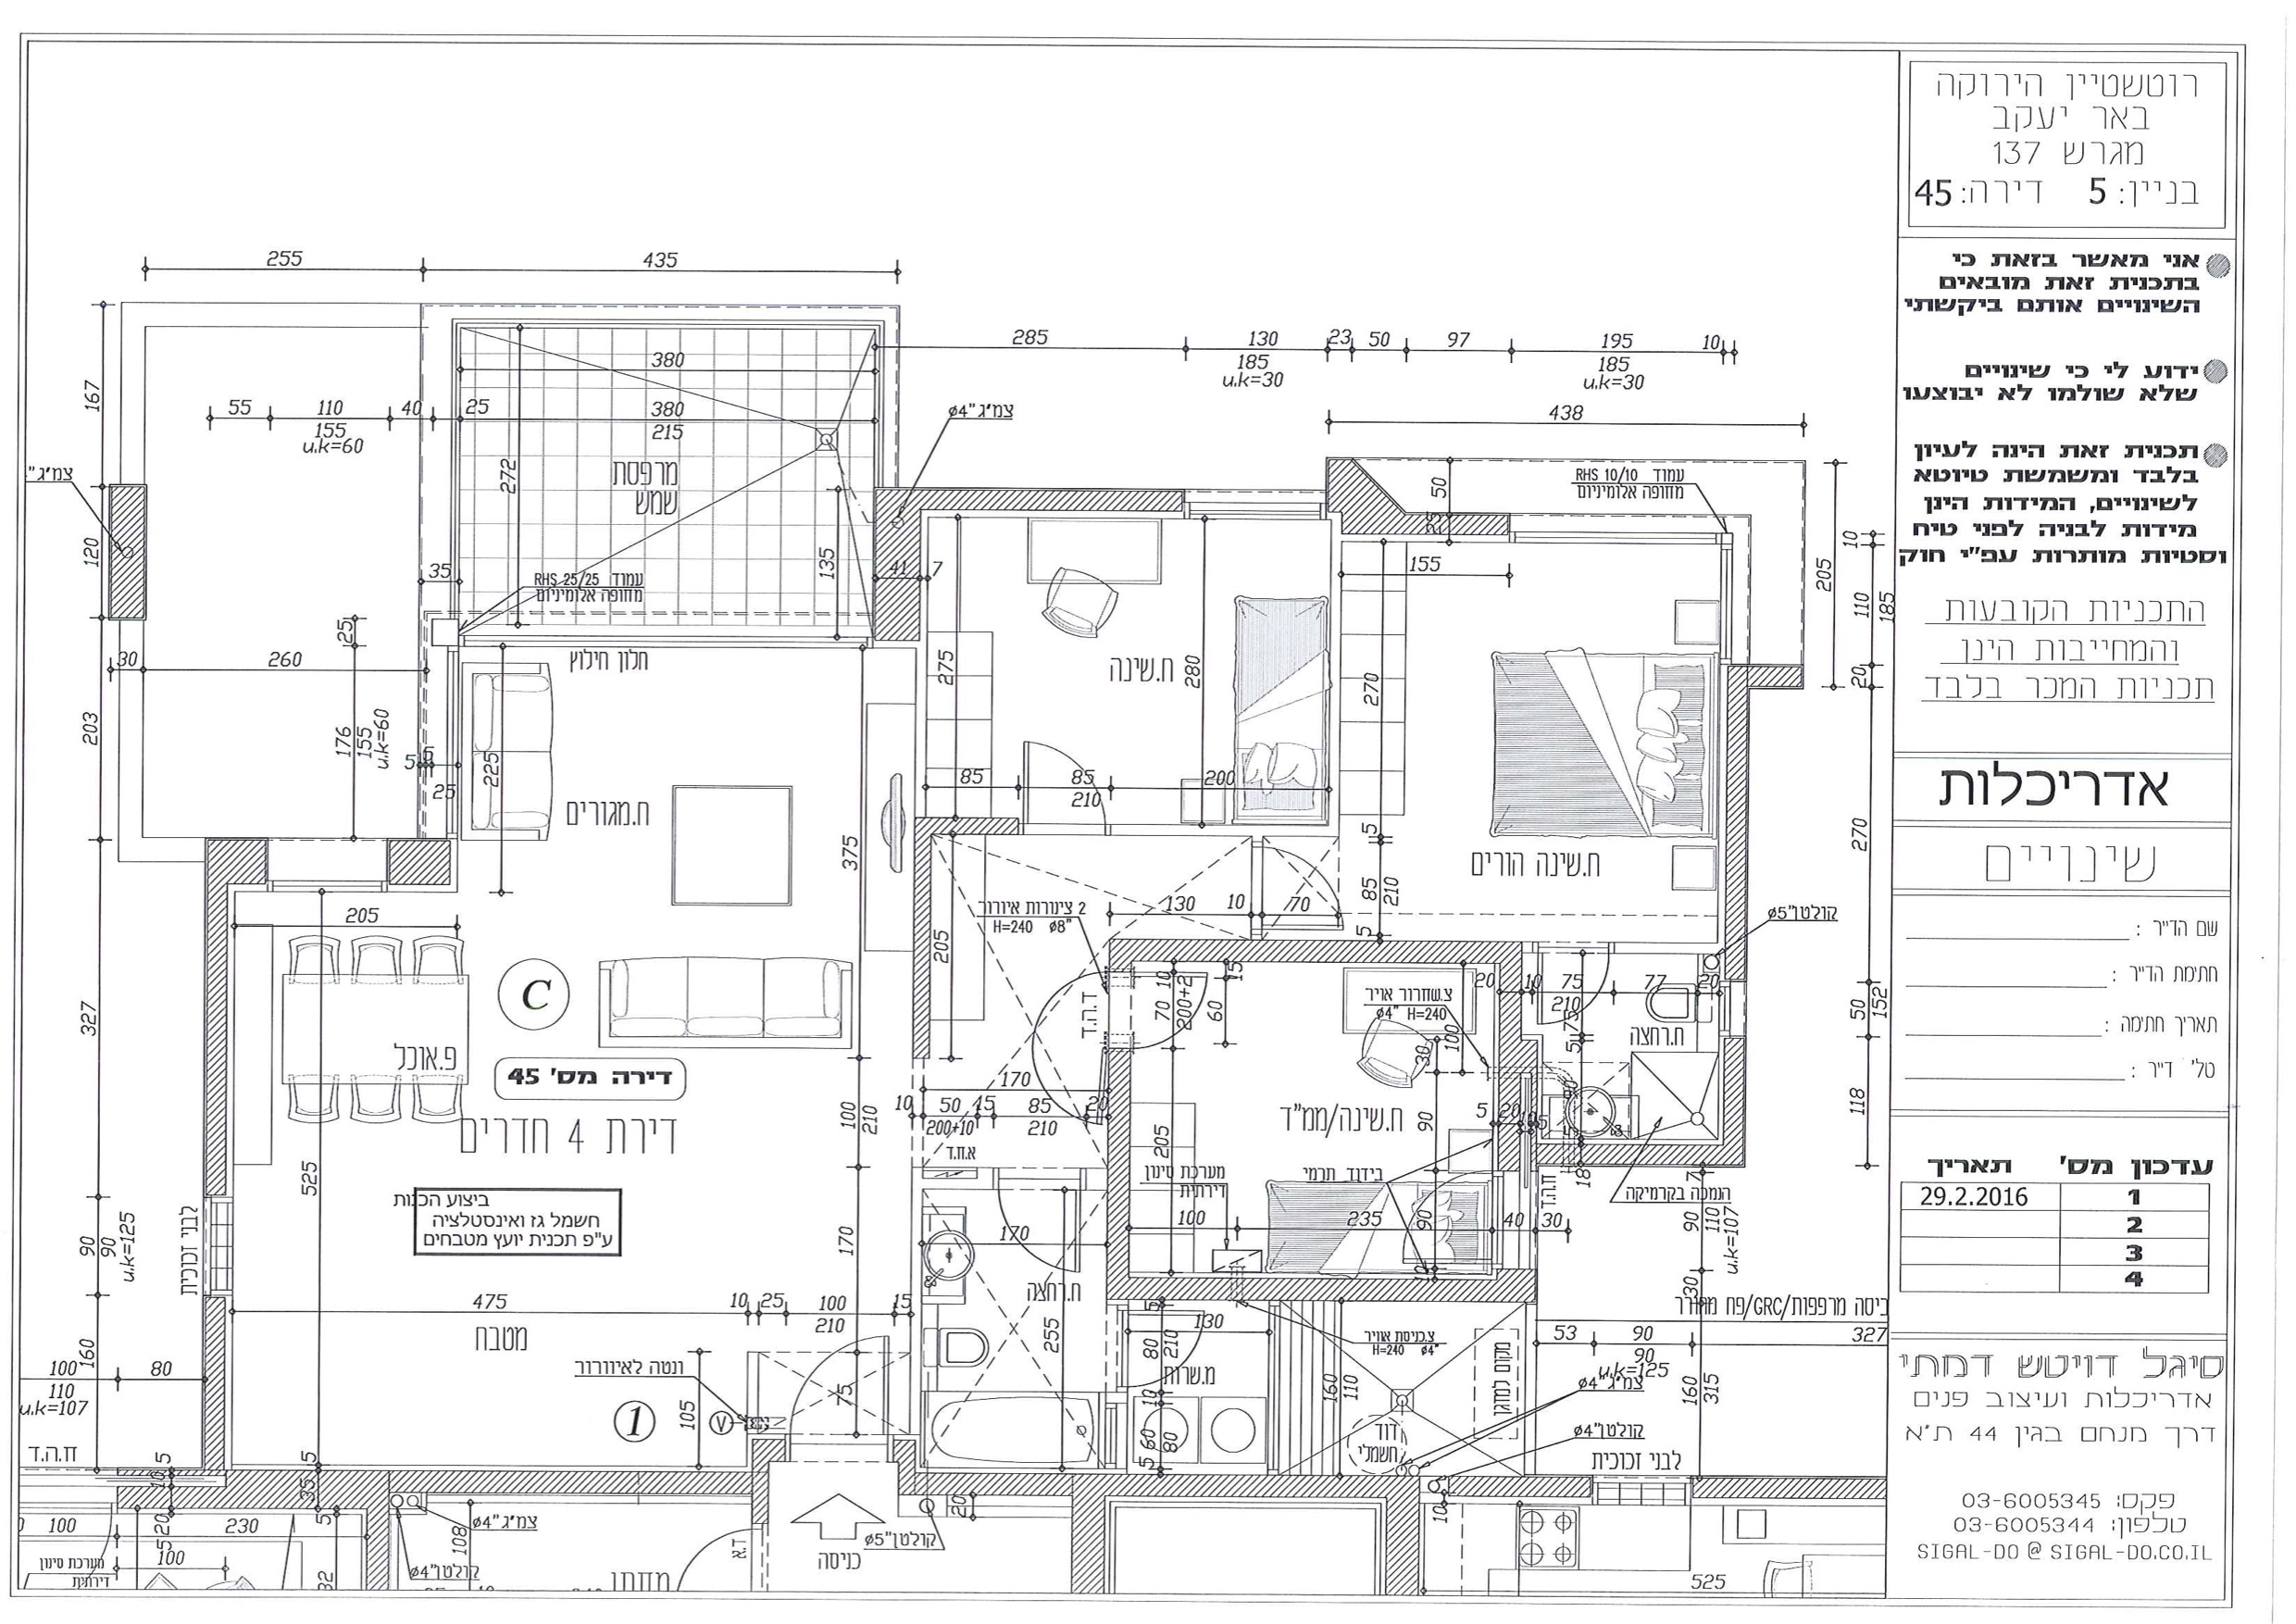door: (1137, 961, 1249, 1067), (787, 1322, 899, 1425), (1008, 733, 1116, 819), (1265, 845, 1358, 935), (991, 1192, 1084, 1281)
wall: (228, 1468, 769, 1494), (1110, 939, 1521, 963), (204, 838, 227, 1197), (1727, 668, 1748, 977), (269, 837, 388, 891), (1186, 487, 1328, 518), (915, 817, 929, 1058)
